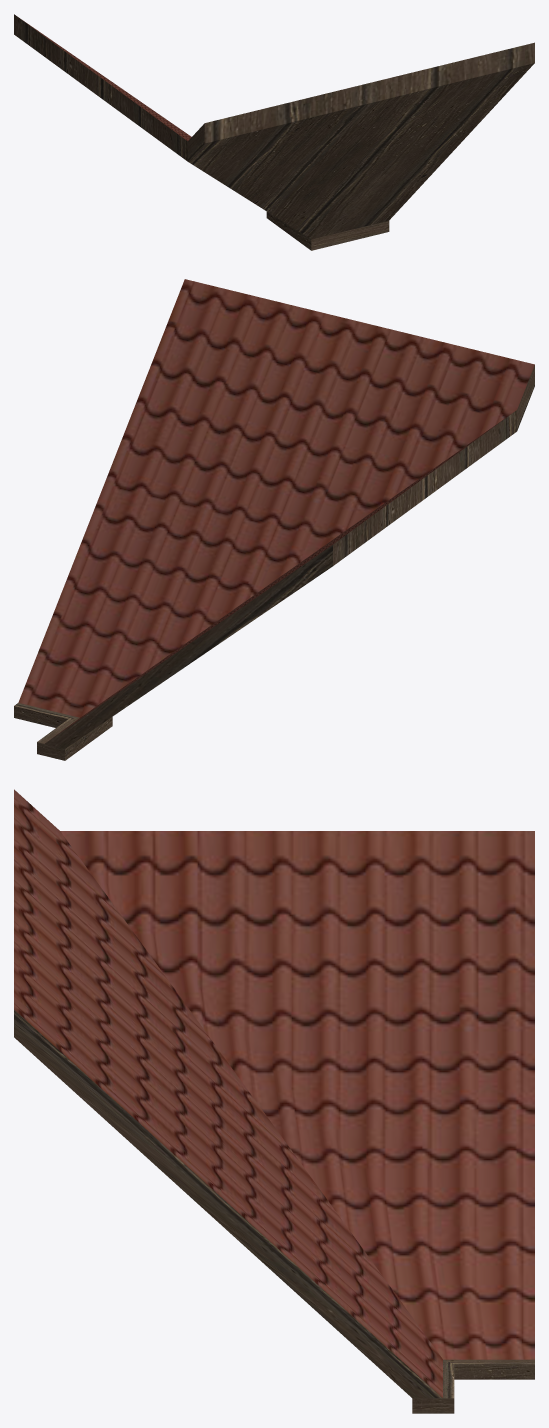
Rendered from ARC1010381.fbx.
3 views of the same model, one above another, from view 1: azimuth 30°, elevation 25°; view 2: azimuth 150°, elevation 25°; view 3: azimuth 270°, elevation 25° (orthographic). The views are drawn at different scales.
Visible parts, largest first — view 1: smARC1010381; view 2: smARC1010381; view 3: smARC1010381.
Part boxes in pixels (x1=…): smARC1010381: x1=14, y1=14, x2=534, y2=250; smARC1010381: x1=14, y1=279, x2=534, y2=760; smARC1010381: x1=14, y1=789, x2=534, y2=1413.
Bounding box in the file's own units: 380 × 325 × 380.
Materials: 1 (1 with a texture image).
